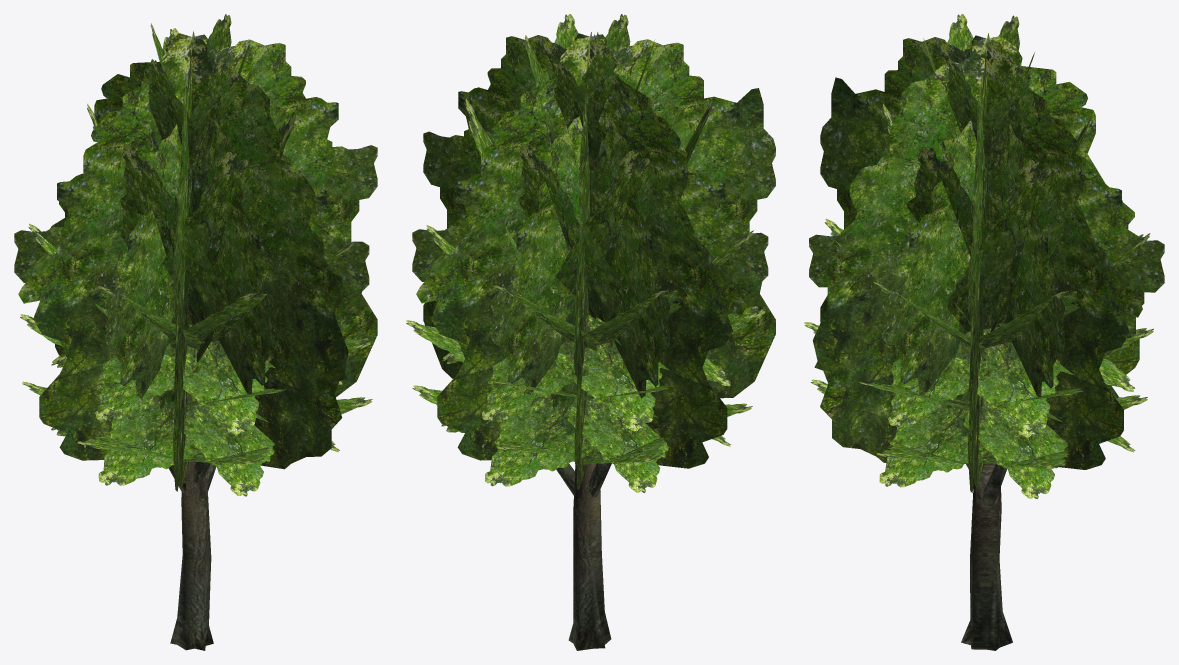
3 views of the same model, side by side, from view 1: azimuth 30°, elevation 25°; view 2: azimuth 150°, elevation 25°; view 3: azimuth 270°, elevation 25° (orthographic).
Parts seen in each view (by area): view 1: boomkroon (×21), Tree; view 2: boomkroon (×25), Tree; view 3: boomkroon (×23), Tree, group_0.
Part boxes in pixels (box(x1,y1,x2,y2)): boomkroon (×21): box(14, 14, 377, 496); Tree: box(170, 461, 213, 650); boomkroon (×25): box(406, 14, 775, 492); Tree: box(568, 463, 611, 650); boomkroon (×23): box(809, 14, 1164, 498); Tree: box(961, 463, 1012, 650); group_0: box(982, 464, 1006, 506).
Bounding box in the file's own units: 273 × 250 × 469.
Materials: 2 (2 with a texture image).
